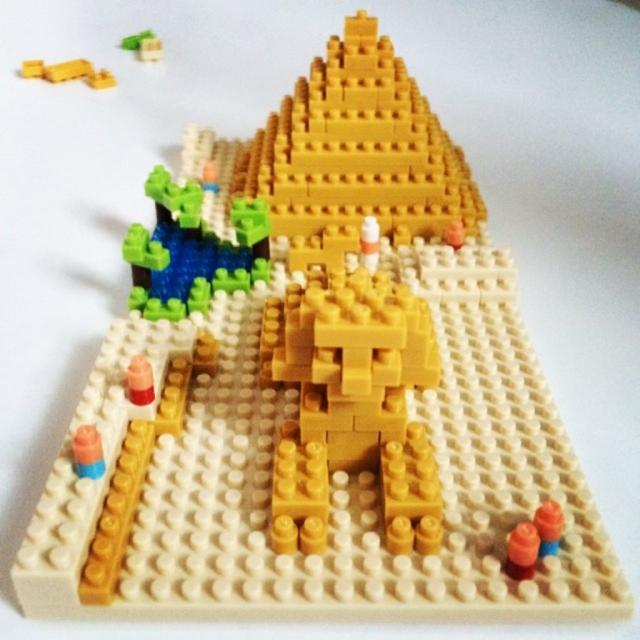Toy: (12, 8, 633, 626)
